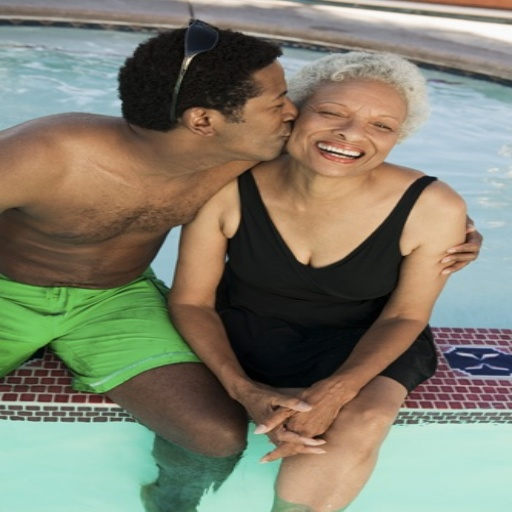hand: (226, 378, 330, 454), (439, 215, 484, 275)
